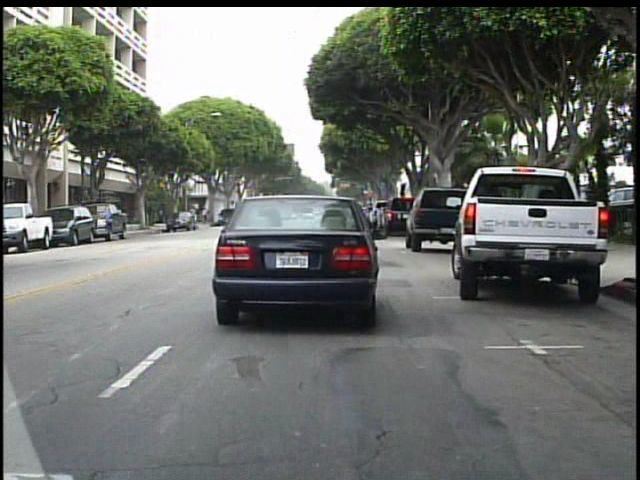person: (200, 204, 212, 227)
